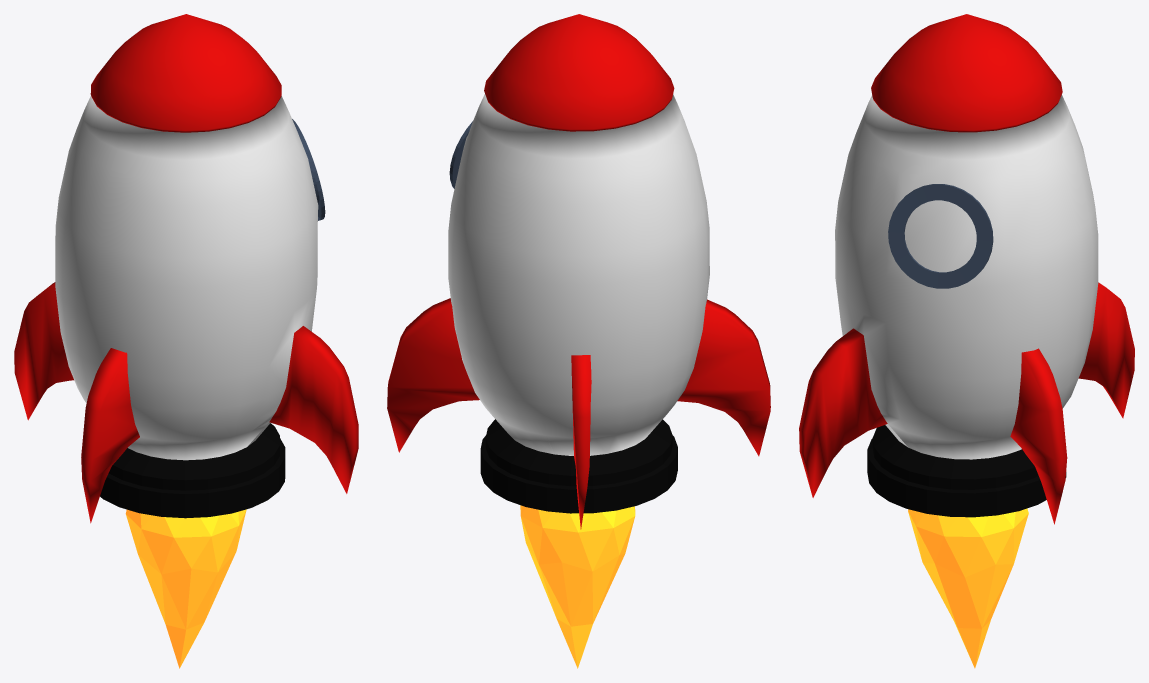
File: new_rocket.glb
3 renders of one model, left to right at view 1: azimuth 30°, elevation 25°; view 2: azimuth 150°, elevation 25°; view 3: azimuth 270°, elevation 25°, orthographic.
Parts seen in each view (by area): view 1: Cylinder_Gloss White_0, Cylinder_Gloss Red_0, Cylinder_Charcoal_0, Icosphere_Flame_0, Cylinder_Material.001_0; view 2: Cylinder_Gloss White_0, Cylinder_Gloss Red_0, Cylinder_Charcoal_0, Icosphere_Flame_0; view 3: Cylinder_Gloss White_0, Cylinder_Gloss Red_0, Cylinder_Charcoal_0, Icosphere_Flame_0, Cylinder_Material.001_0.
Part boxes in pixels (x1,y1,x2,y2): Cylinder_Gloss White_0: (55,96,318,460); Cylinder_Gloss Red_0: (14,14,358,523); Cylinder_Charcoal_0: (100,423,285,518); Icosphere_Flame_0: (125,509,246,668); Cylinder_Material.001_0: (292,119,325,220); Cylinder_Gloss White_0: (448,94,709,455); Cylinder_Gloss Red_0: (387,14,770,529); Cylinder_Charcoal_0: (480,419,677,513); Icosphere_Flame_0: (520,505,635,668); Cylinder_Gloss White_0: (835,94,1098,459); Cylinder_Gloss Red_0: (799,14,1134,524); Cylinder_Charcoal_0: (867,425,1066,517); Icosphere_Flame_0: (908,508,1028,668); Cylinder_Material.001_0: (888,184,993,288).
Size of the model in its own units: 2.43 by 5.15 by 2.39.
